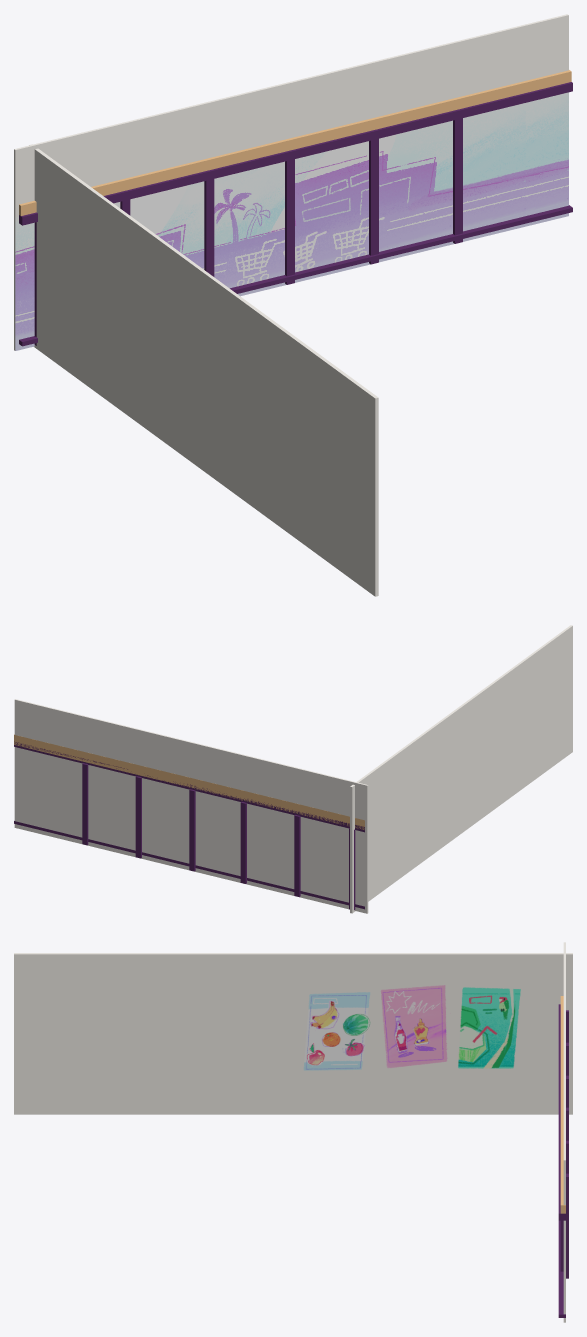
The model's file is window.obj.
3 views of the same model, one above another, from view 1: azimuth 30°, elevation 25°; view 2: azimuth 150°, elevation 25°; view 3: azimuth 270°, elevation 25° (orthographic). The views are drawn at different scales.
Parts seen in each view (by area): view 1: window_Cube.013; view 2: window_Cube.013; view 3: window_Cube.013.
Boxes of the visible parts, x1=… form: window_Cube.013: x1=14, y1=14, x2=572, y2=596; window_Cube.013: x1=14, y1=625, x2=572, y2=913; window_Cube.013: x1=14, y1=942, x2=572, y2=1322.
Size of the model in its own units: 68.9 by 24 by 74.53.
